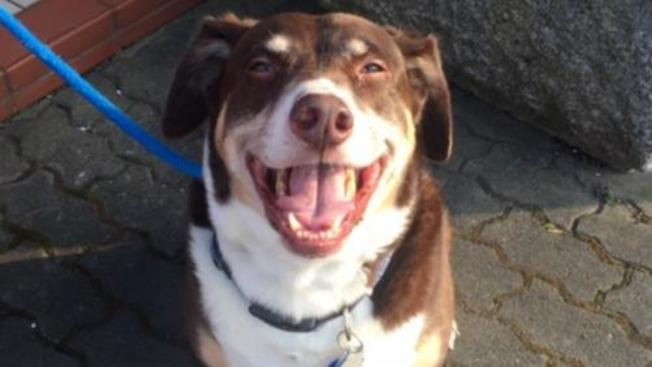dog: (155, 18, 480, 357)
